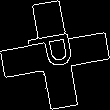P_E: (27, 33, 83, 77)
